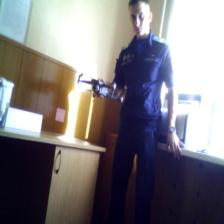drone: (74, 72, 128, 106)
